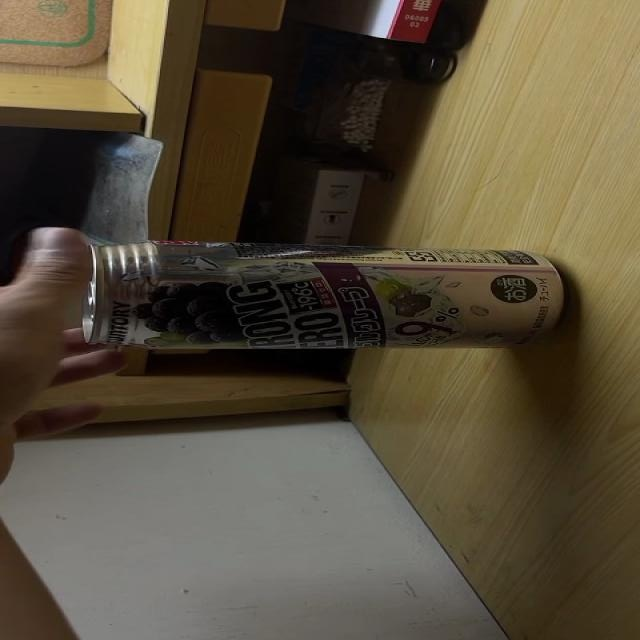Liquor: (81, 239, 570, 351)
